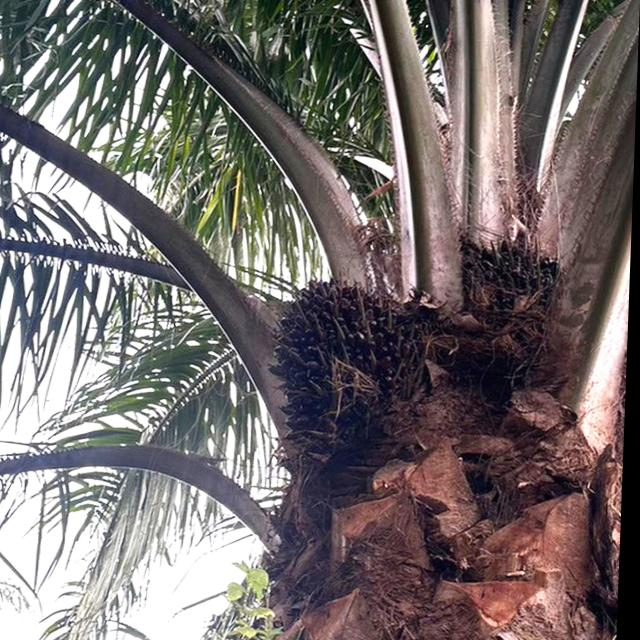ripe: (252, 263, 444, 467)
